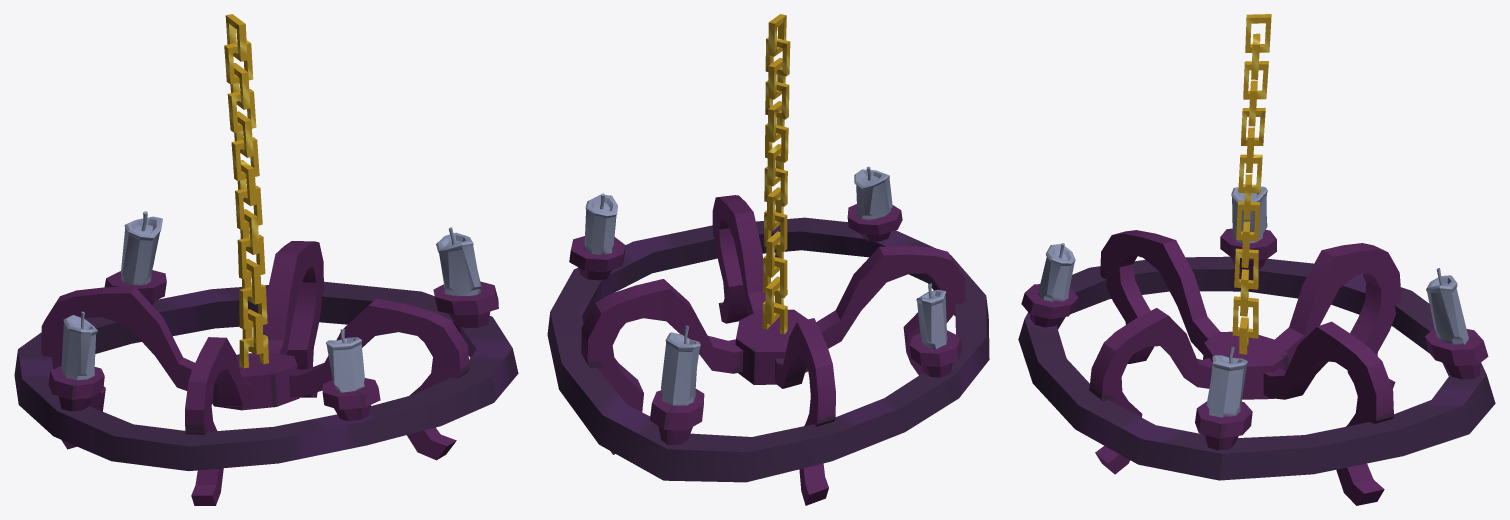
File: Chandelier.fbx
3 views of the same model, side by side, from view 1: azimuth 30°, elevation 25°; view 2: azimuth 150°, elevation 25°; view 3: azimuth 270°, elevation 25° (orthographic). The views are drawn at different scales.
Parts seen in each view (by area): view 1: Chandelier; view 2: Chandelier; view 3: Chandelier.
Part boxes in pixels (x1,y1,x2,y2): Chandelier: (14, 14, 518, 505); Chandelier: (547, 14, 989, 505); Chandelier: (1018, 14, 1495, 505).
Size of the model in its own units: 124 by 124 by 124.
